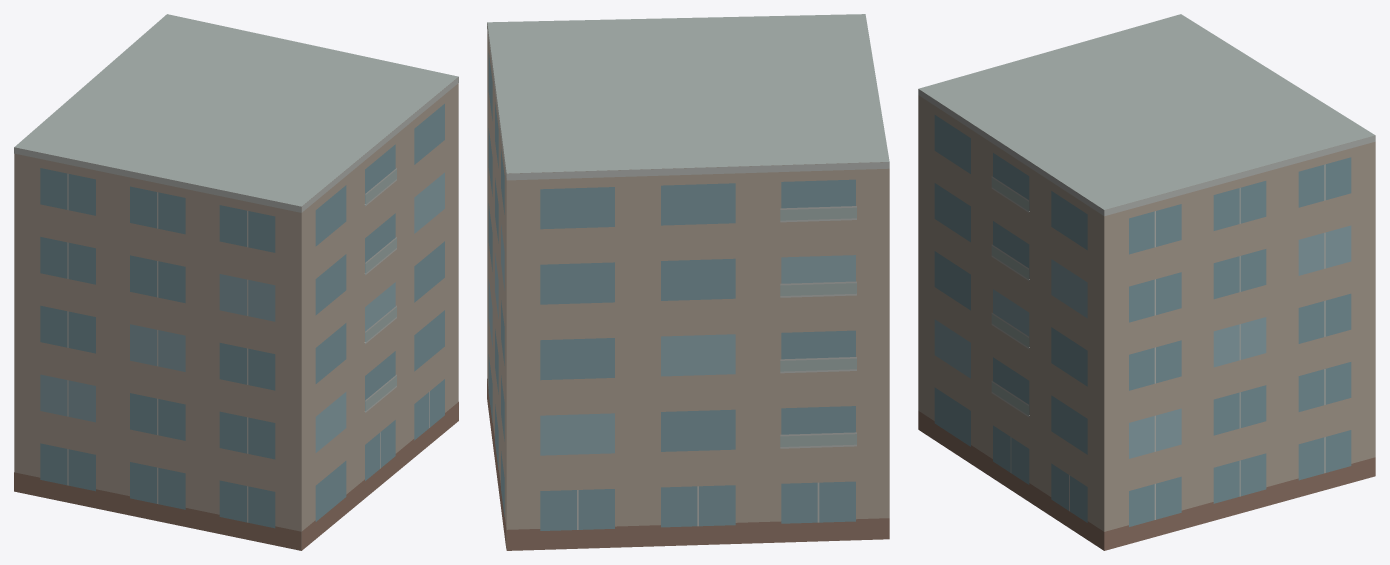
File: survey-upis-32854359.glb
3 renders of one model, left to right at view 1: azimuth 30°, elevation 25°; view 2: azimuth 150°, elevation 25°; view 3: azimuth 270°, elevation 25°, orthographic. The views are drawn at different scales.
Parts seen in each view (by area): view 1: survey-upis-32854359.tmp; view 2: survey-upis-32854359.tmp; view 3: survey-upis-32854359.tmp.
Part boxes in pixels (x1,y1,x2,y2): survey-upis-32854359.tmp: (14,14,458,550); survey-upis-32854359.tmp: (487,14,889,550); survey-upis-32854359.tmp: (918,14,1375,550).
Bounding box in the file's own units: 16.42 × 13.3 × 16.18.
